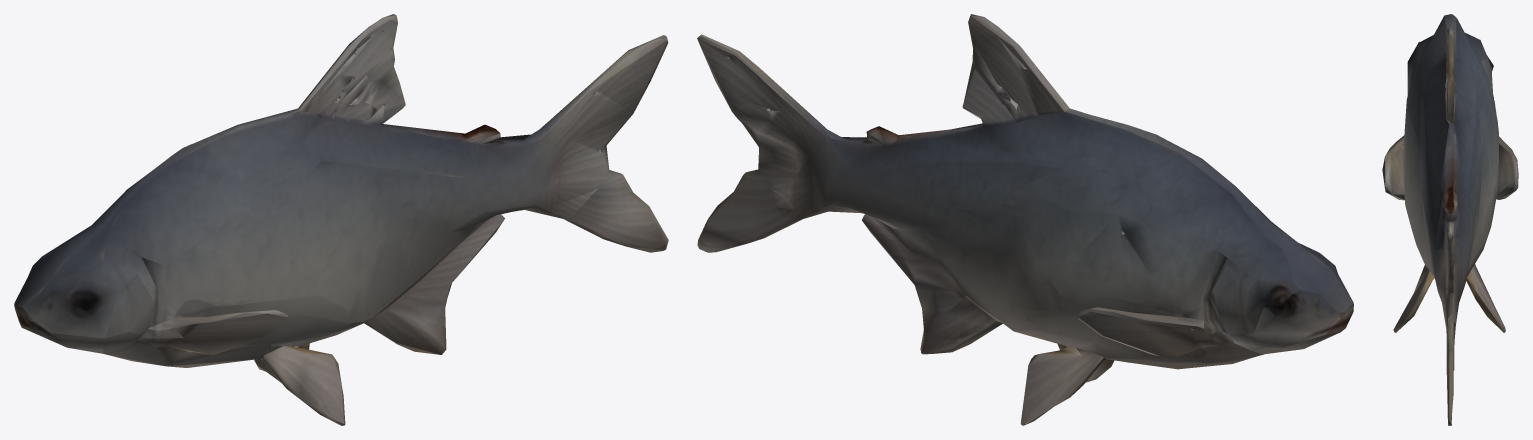
The model's file is fish_taxi_l0.glb.
3 views of the same model, side by side, from view 1: azimuth 30°, elevation 25°; view 2: azimuth 150°, elevation 25°; view 3: azimuth 270°, elevation 25° (orthographic). The views are drawn at different scales.
Parts seen in each view (by area): view 1: geometry_0; view 2: geometry_0; view 3: geometry_0.
Part boxes in pixels (box(x1,y1,x2,y2)): geometry_0: box(14, 14, 668, 425); geometry_0: box(697, 14, 1353, 425); geometry_0: box(1382, 14, 1518, 425).
Size of the model in its own units: 1.6 by 0.8687 by 0.3191.
Materials: 1 (1 with a texture image).
